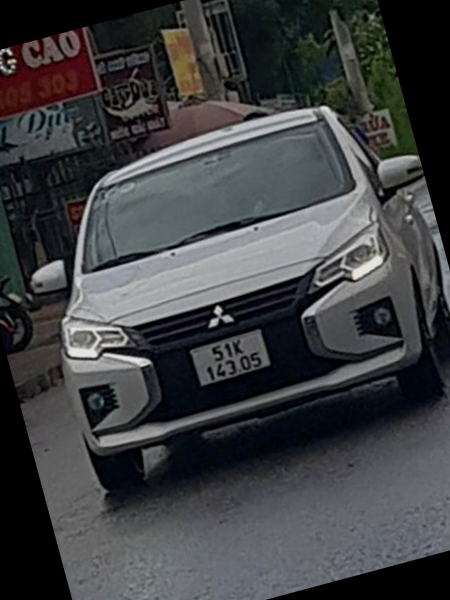lisence: (188, 330, 272, 387)
